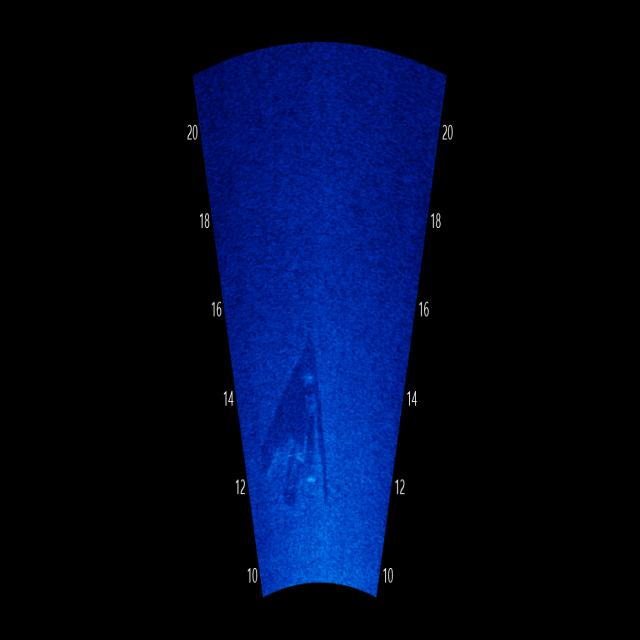triangle: (258, 308, 362, 538)
